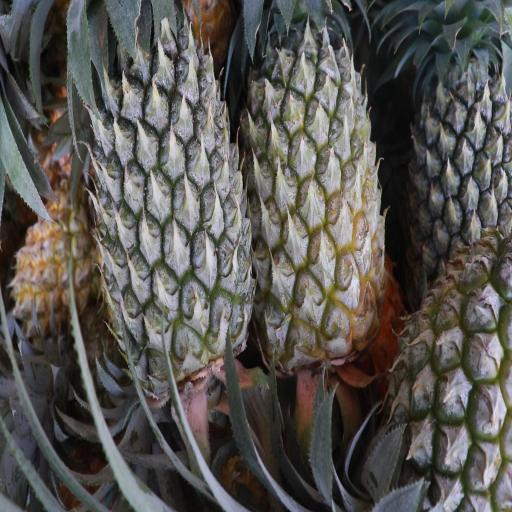------------------------------: (250, 26, 384, 359), (400, 238, 512, 512)
Pineapple - v8 v1: (14, 163, 90, 345)
